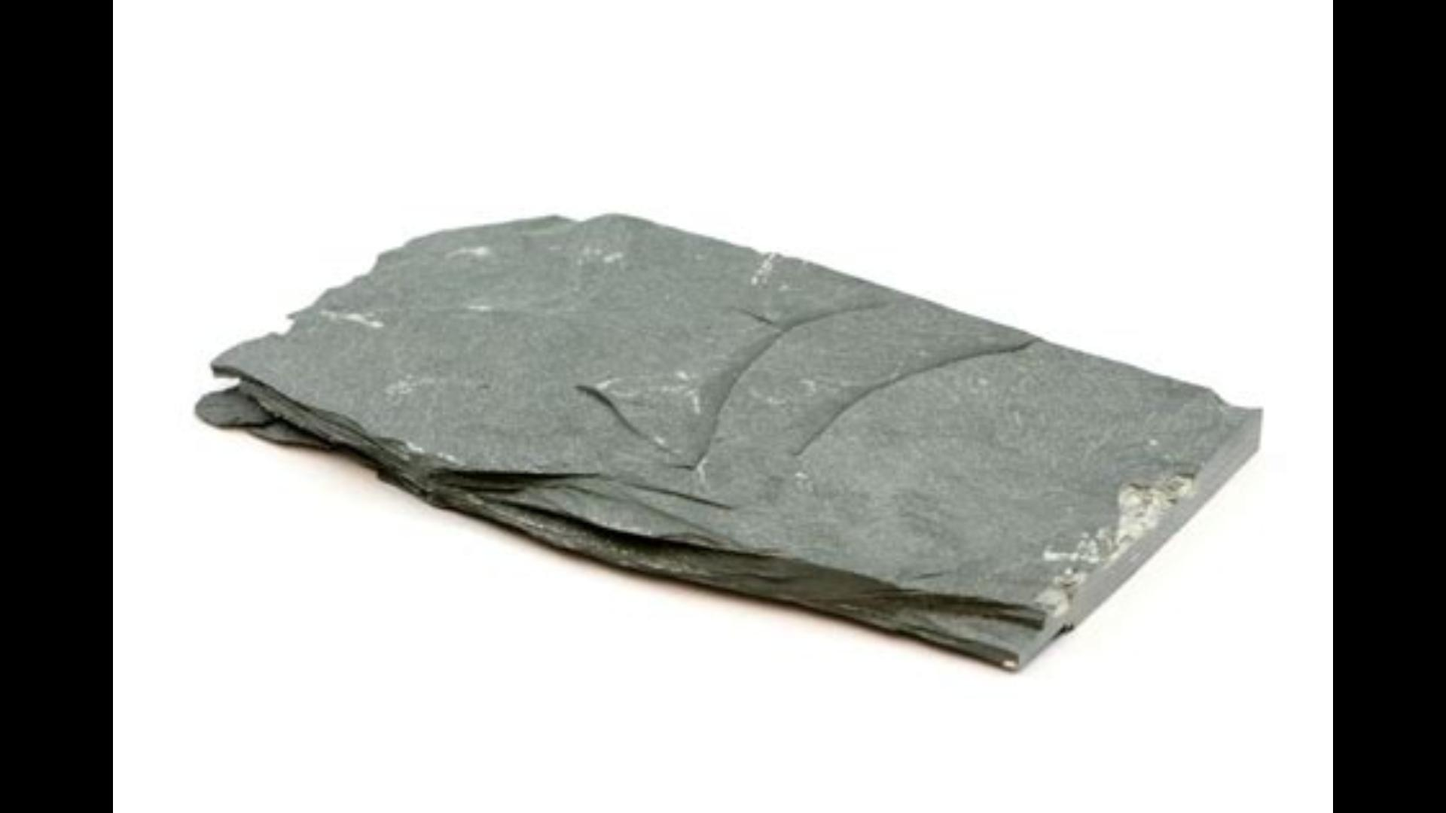rock: (216, 219, 1253, 661)
